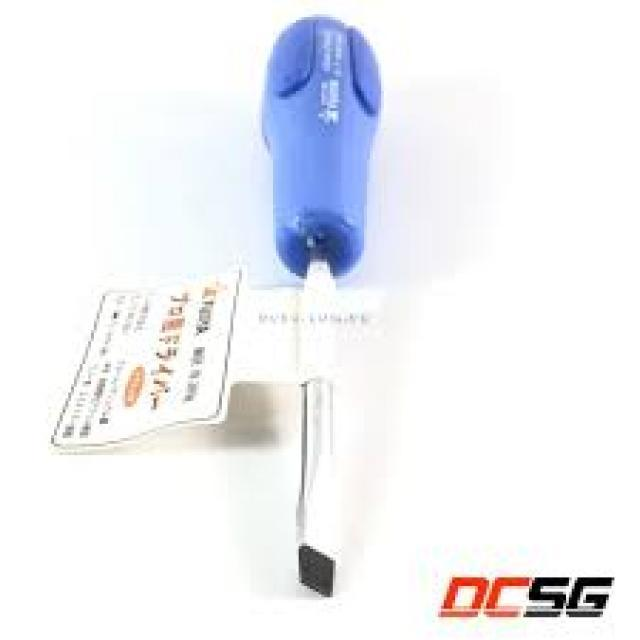screwdriver: (258, 10, 382, 602)
